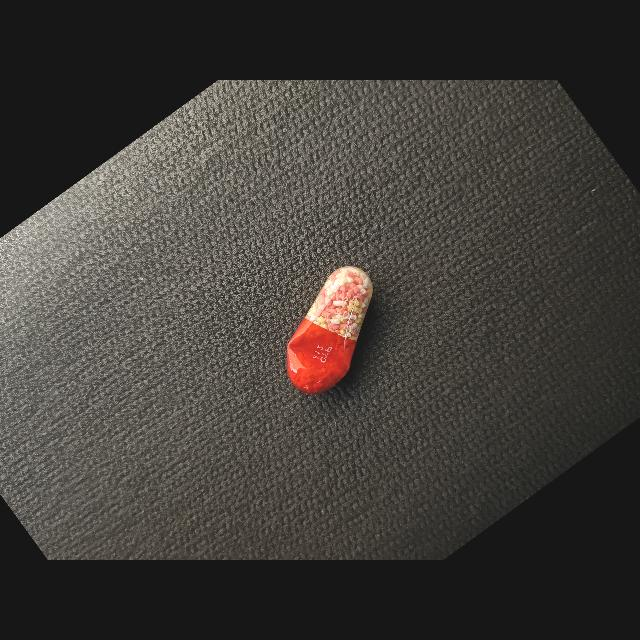Defective Capsule: (287, 266, 373, 394)
